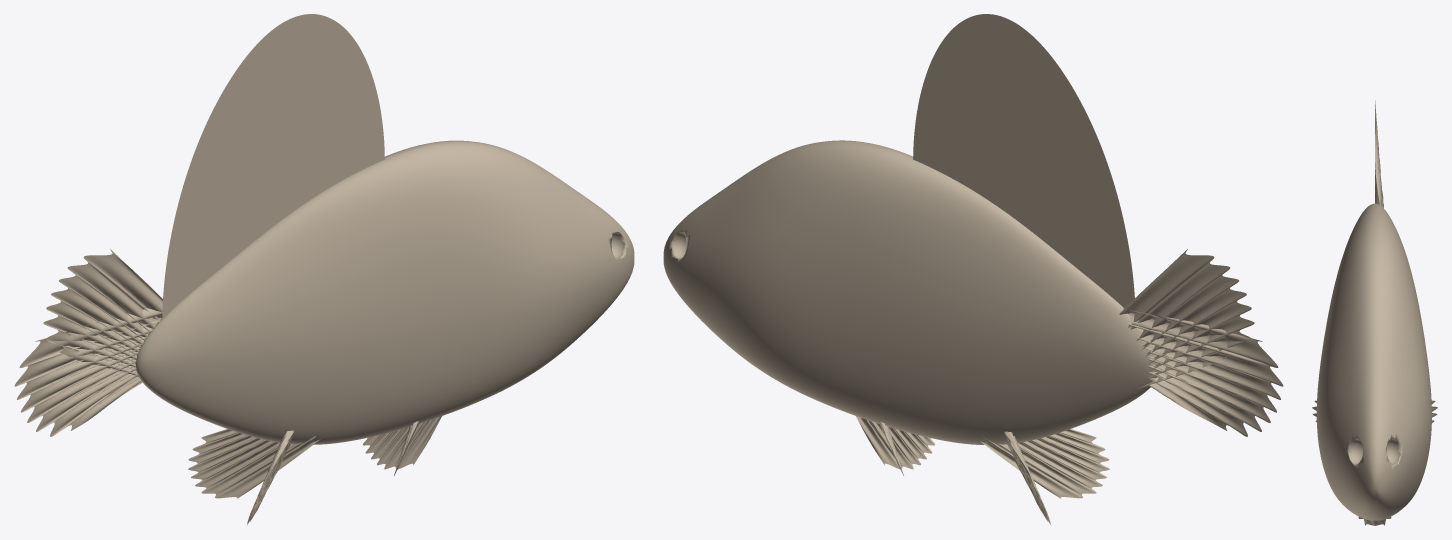
File: 3dcodebench_Fish_seed0_L2_Q1__gpt61_sol.glb
The picture shows the model from 3 angles, left to right: view 1: azimuth 30°, elevation 25°; view 2: azimuth 150°, elevation 25°; view 3: azimuth 270°, elevation 25°; orthographic projection. The views are drawn at different scales.
Parts seen in each view (by area): view 1: object; view 2: object; view 3: object.
Part boxes in pixels (x1,y1,x2,y2): object: (14,14,634,524); object: (663,14,1283,524); object: (1312,100,1437,525).
Bounding box in the file's own units: 1.55 × 1.15 × 0.2828.
